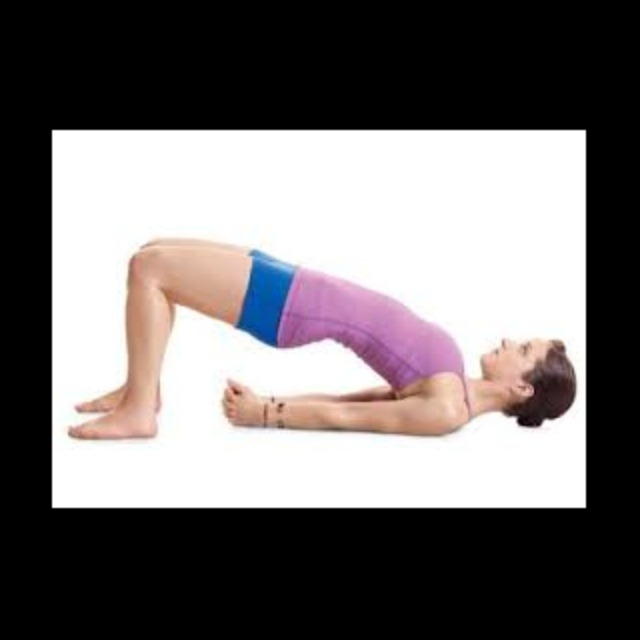Bridge_Pose: (63, 234, 581, 449)
